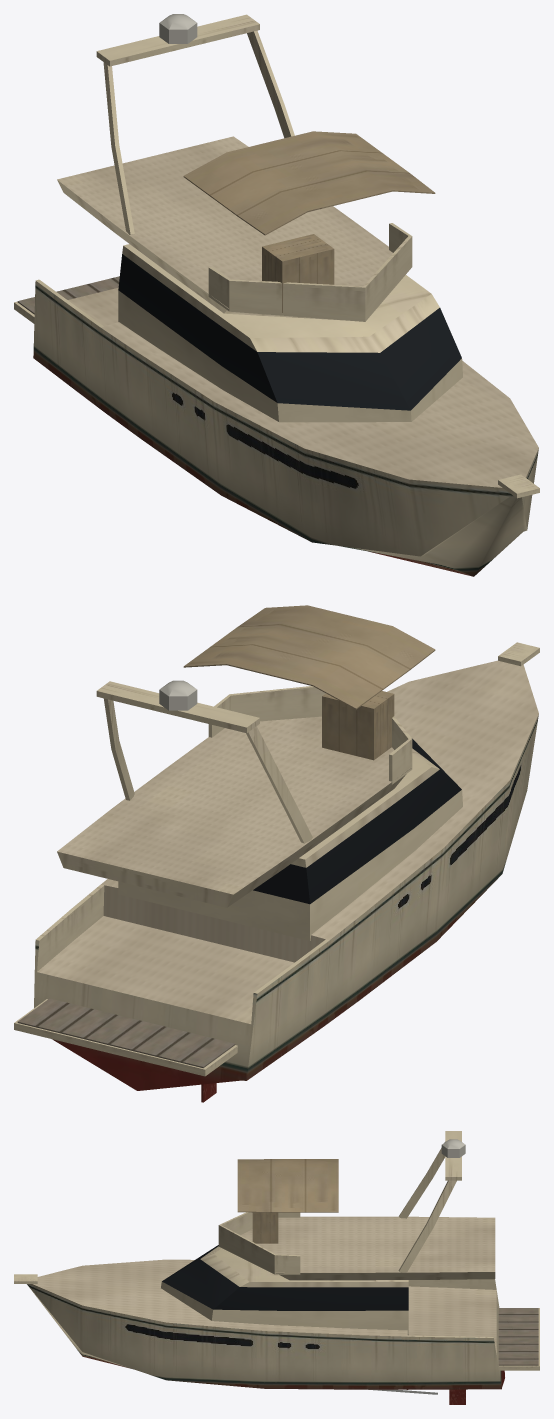
File: motorYacht-b-lod2.glb
3 renders of one model, top to bottom at view 1: azimuth 30°, elevation 25°; view 2: azimuth 150°, elevation 25°; view 3: azimuth 270°, elevation 25°, orthographic. The views are drawn at different scales.
Visible parts, largest first — view 1: Superstructure, Hull; view 2: Hull, Superstructure; view 3: Hull, Superstructure.
Part boxes in pixels (<box>): Superstructure: <box>57,14,462,422</box>; Hull: <box>14,276,539,576</box>; Hull: <box>14,642,539,1102</box>; Superstructure: <box>57,605,462,940</box>; Hull: <box>14,1259,539,1404</box>; Superstructure: <box>161,1131,495,1333</box>.
Bounding box in the file's own units: 4.2 × 7.07 × 13.28.
Materials: 1 (1 with a texture image).
